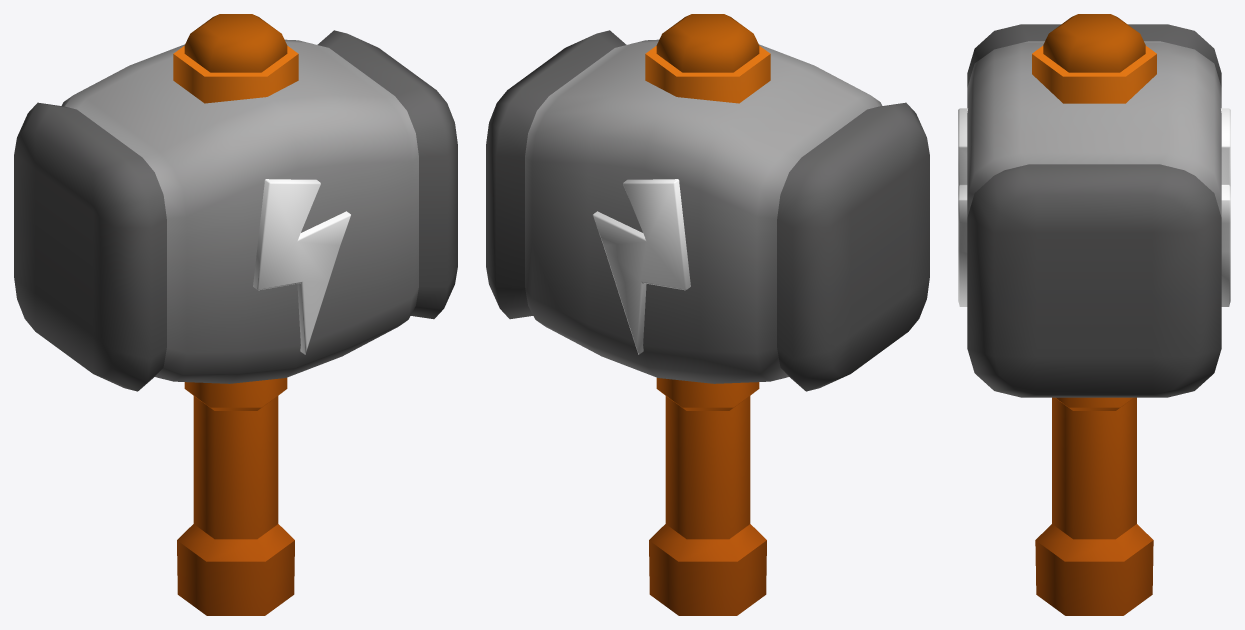
Rendered from Collectable_Hammer_01.fbx.
The picture shows the model from 3 angles, left to right: view 1: azimuth 30°, elevation 25°; view 2: azimuth 150°, elevation 25°; view 3: azimuth 270°, elevation 25°; orthographic projection.
Visible parts, largest first — view 1: Collectable_Hammer_01; view 2: Collectable_Hammer_01; view 3: Collectable_Hammer_01.
Boxes of the visible parts, x1=… form: Collectable_Hammer_01: x1=14, y1=14, x2=457, y2=615; Collectable_Hammer_01: x1=486, y1=14, x2=929, y2=615; Collectable_Hammer_01: x1=958, y1=14, x2=1230, y2=615.
Size of the model in its own units: 54.76 by 87.26 by 37.62.
